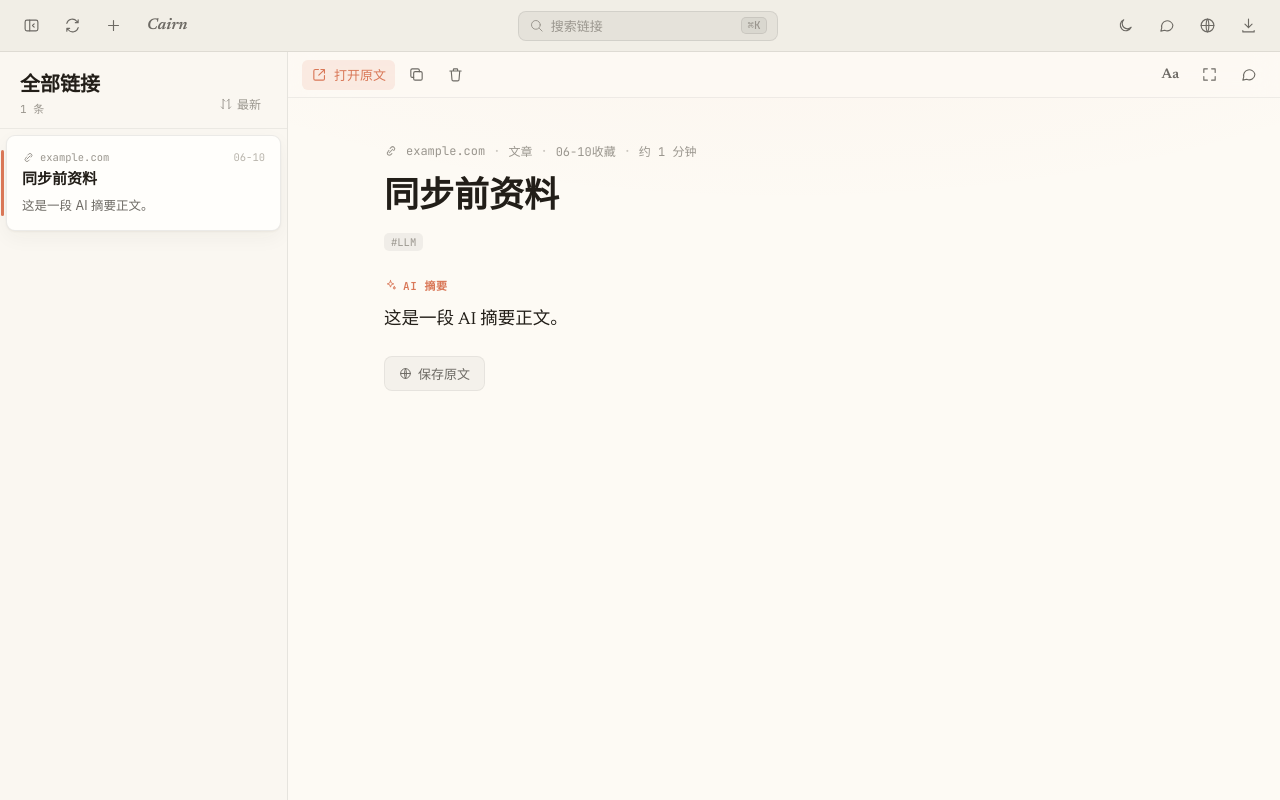
MainView library synchronization › keeps successful data, names a single failed resource, and retries one non-overlapping group
This screenshot has width=1280, height=800.
expect the text "同步前资料" is shown: met, box [22,173,97,188]
Step 1. Click the button titled "同步" → (72, 26), box [55,10,90,40]
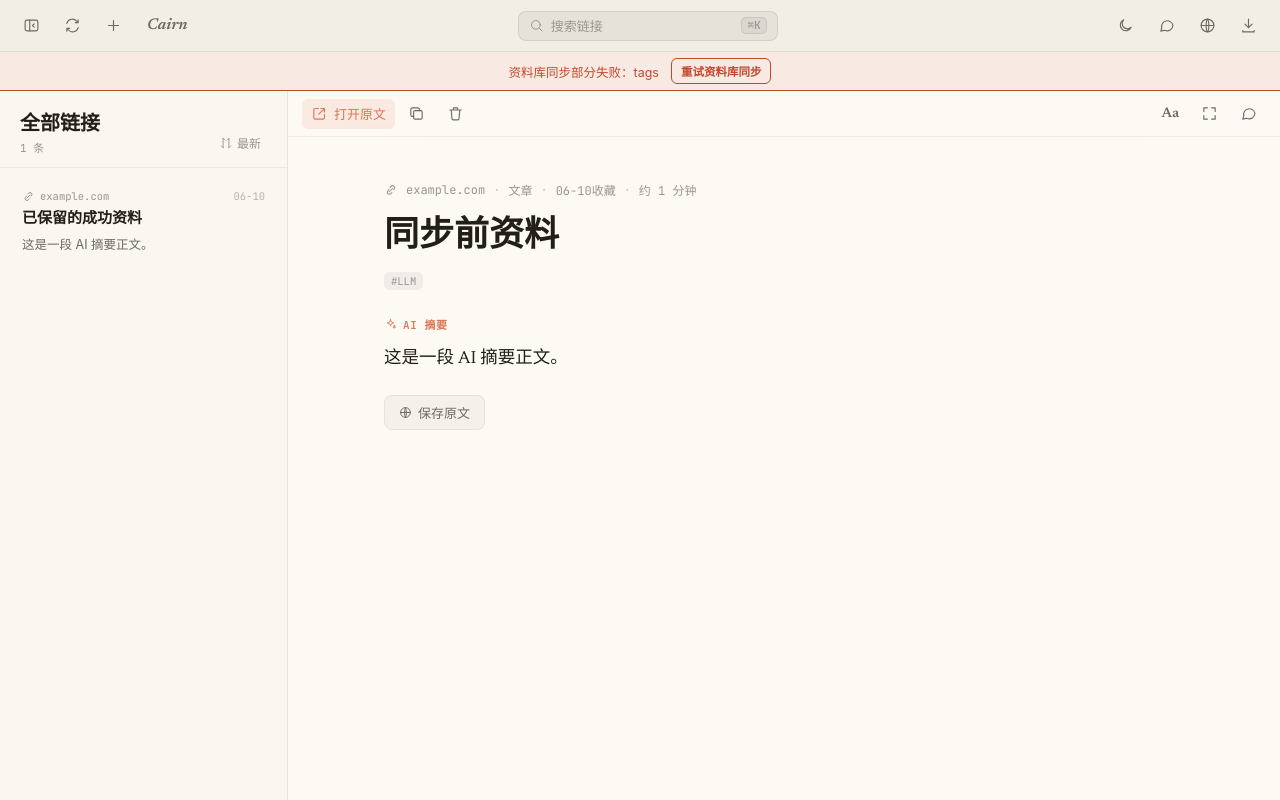
expect the text "资料库同步部分失败：tags" is shown: met, box [508,62,659,80]
expect the text "已保留的成功资料" is shown: met, box [22,212,142,227]
Step 2. Click the button "重试资料库同步" → (721, 71), box [671,58,772,84]
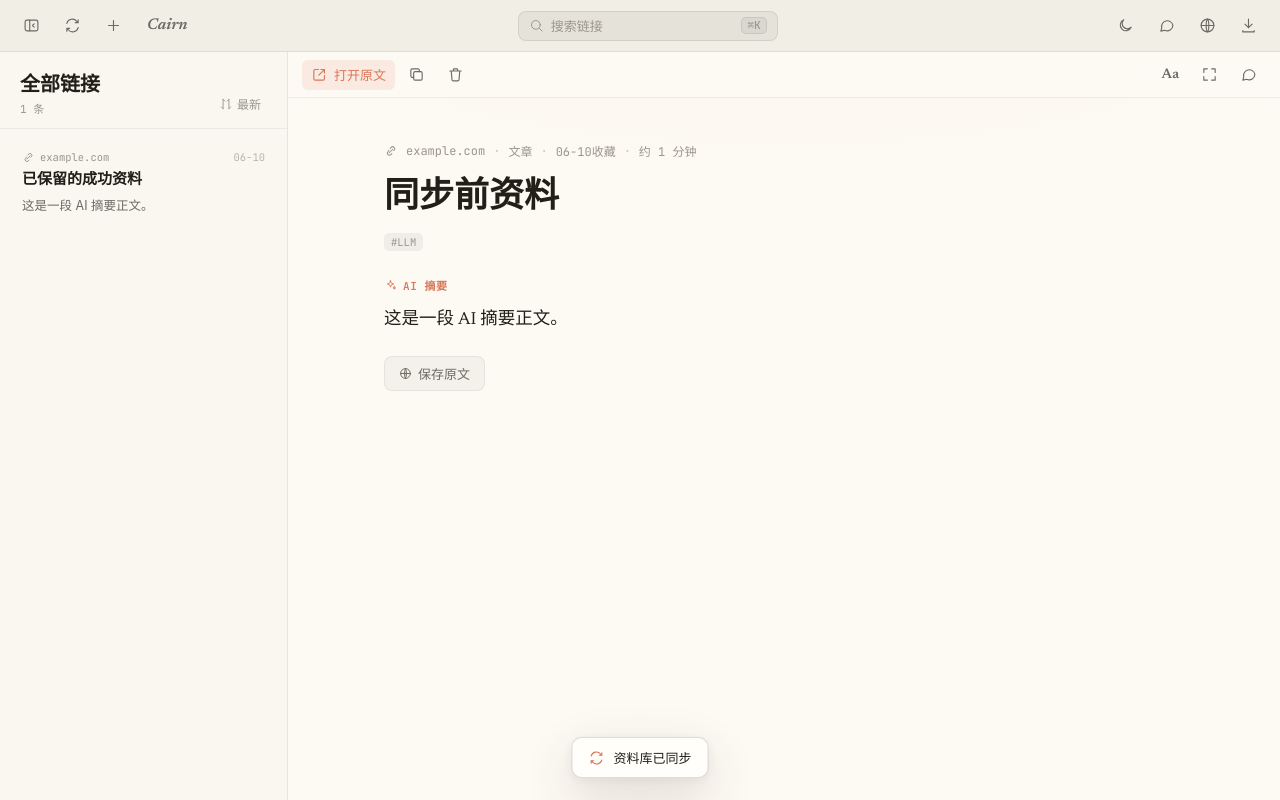
expect the text "资料库已同步" is shown: met, box [572,737,708,778]
